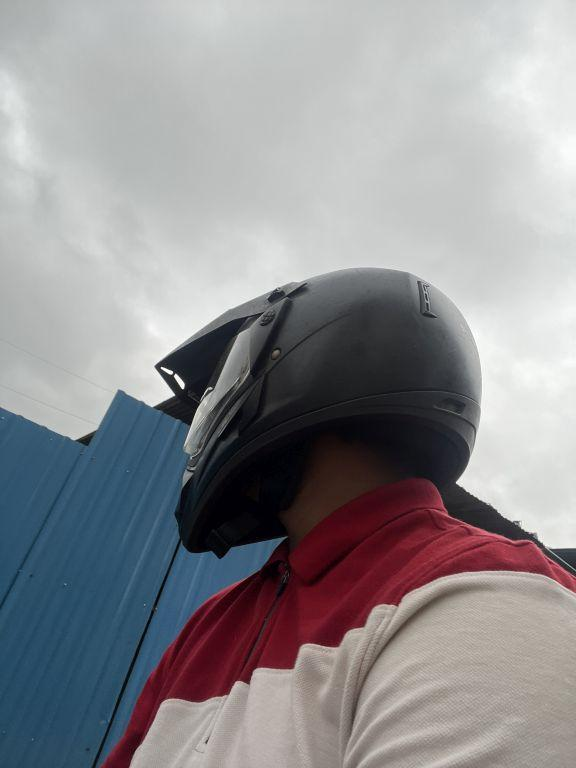helmet: (137, 255, 502, 561)
